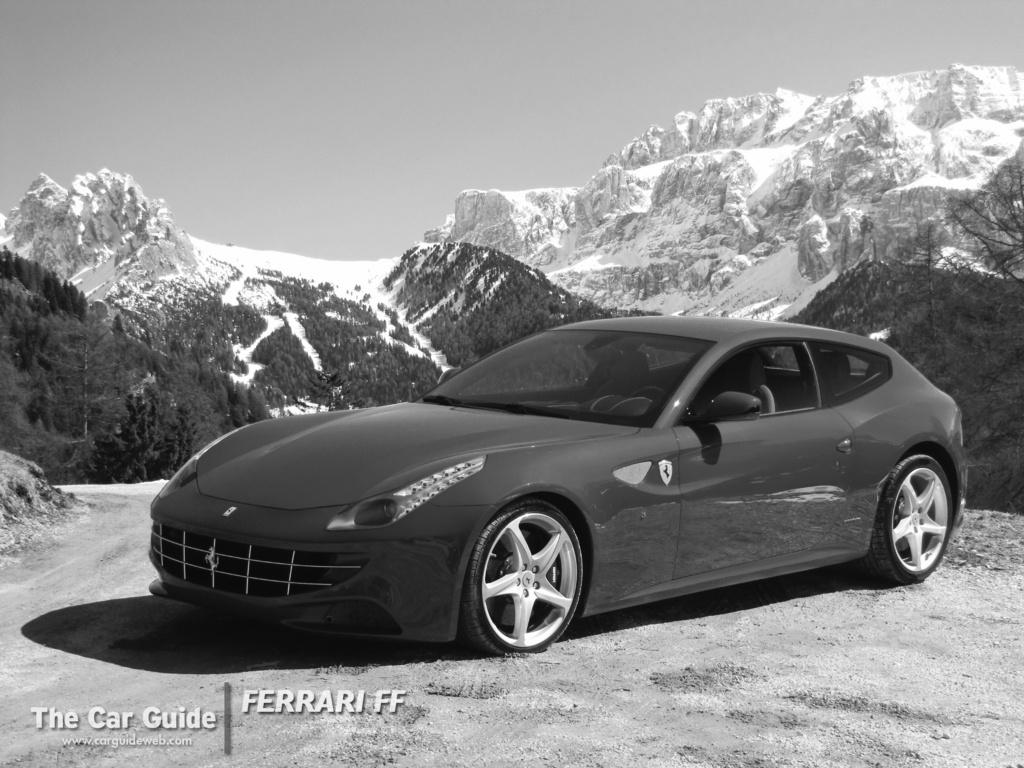car: (149, 314, 969, 656)
